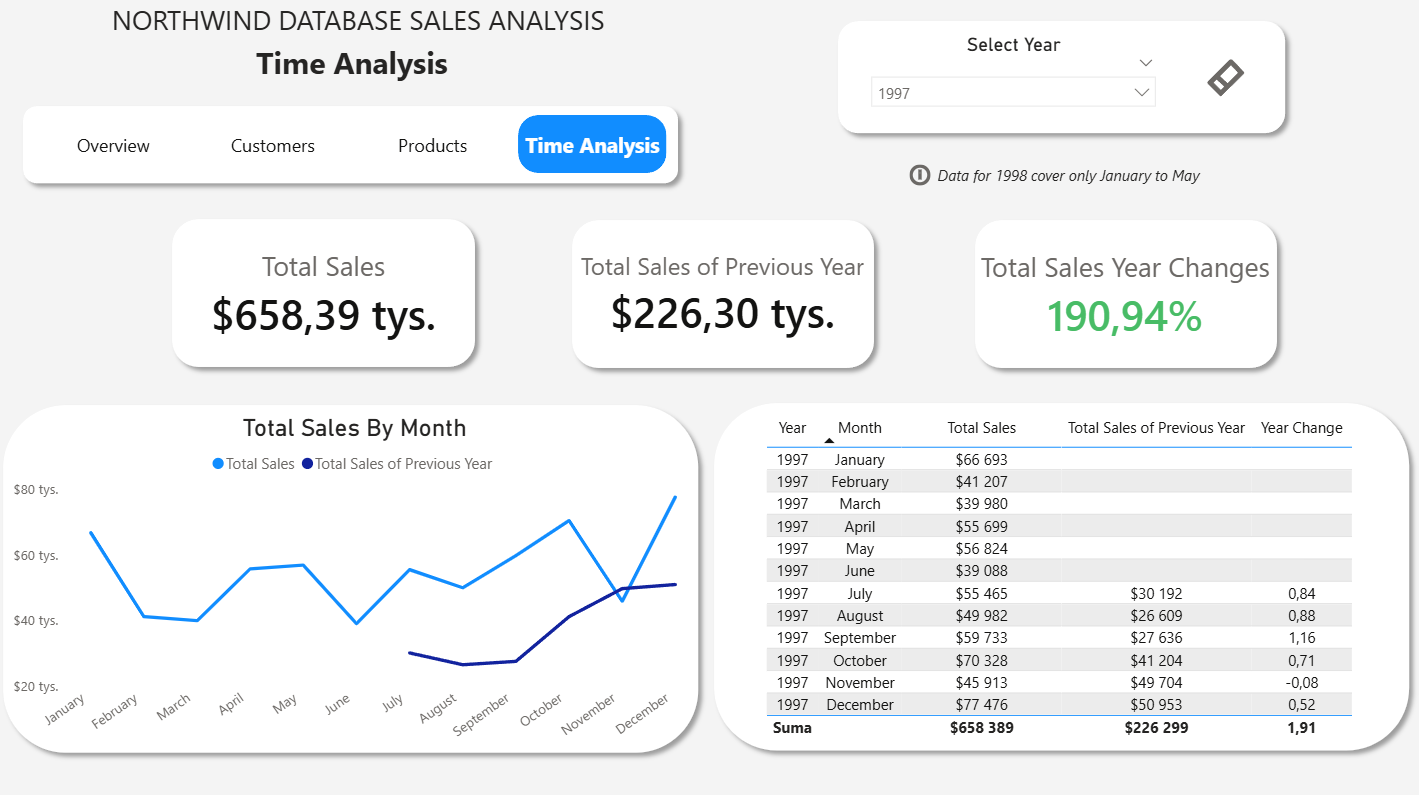

What the dashboard file says about the page in this screenshot:
{"tool":"powerbi","page":{"name":"Time Analysis","canvas":[1280,720],"ordinal":3},"visuals":[{"type":"shape","box":[636.6,356.6,640.5,329.1],"z":0},{"type":"textbox","box":[0,0,654.1,53],"z":1000},{"type":"textbox","box":[0,37,642.8,54.1],"z":2000},{"type":"shape","box":[151.3,191.5,289.3,150.4],"z":3000},{"type":"shape","box":[509.6,192.4,288.4,150.4],"z":4000},{"type":"cardVisual","fields":{"Data":["Measure.Total Sales of Previous Year"]},"box":[491.6,206.7,323.3,120],"z":5000},{"type":"cardVisual","fields":{"Data":["Measure.Total Sales"]},"box":[133.4,206.7,325.1,120],"z":6000},{"type":"shape","box":[747.7,14.7,418.4,118.4],"z":7000},{"type":"slicer","title":"Select Year","fields":{"Values":["date_dim.year"]},"box":[776.2,34,275.3,88.5],"z":8000},{"type":"actionButton","box":[1083.5,53.5,49.6,40.9],"z":9000},{"type":"shape","box":[870.4,192.4,288.4,150.4],"z":10000},{"type":"cardVisual","fields":{"Data":["Measure.YvY"]},"box":[852.5,207.6,323.3,120],"z":11000},{"type":"shape","box":[0,358.6,640.6,329.3],"z":12000},{"type":"lineChart","title":"Total Sales By Month","fields":{"Category":["date_dim.month_name"],"Y":["Measure.Total Sales","Measure.Total Sales of Previous Year"]},"box":[12.4,375.5,622.5,312.4],"z":13000},{"type":"tableEx","fields":{"Values":["date_dim.year","date_dim.month_name","Measure.Total Sales","Measure.Total Sales of Previous Year","Measure.YvY"]},"box":[686.9,372.5,540.9,300],"z":14000},{"type":"textbox","box":[840.9,147.7,249,32.2],"z":15000},{"type":"actionButton","box":[816.8,147.7,32.2,26.9],"z":16000},{"type":"shape","box":[18.2,90.1,604.6,87.2],"z":17000},{"type":"pageNavigator","box":[41.2,107.3,565.3,52.7],"z":18000}]}

Visuals, with their boxes in screenshot pixels (x1, y1, x2, y2), scaled from the page's 1280x720 canvas onto the 1419x795 screenshot:
shape: 706/394/1416/757
textbox: 0/0/725/59
textbox: 0/41/713/101
shape: 168/211/488/378
shape: 565/212/885/379
cardVisual - Measure.Total Sales of Previous Year: 545/228/903/361
cardVisual - Measure.Total Sales: 148/228/508/361
shape: 829/16/1293/147
"Select Year" slicer: 860/38/1166/135
actionButton: 1201/59/1256/104
shape: 965/212/1285/379
cardVisual - Measure.YvY: 945/229/1303/362
shape: 0/396/710/760
"Total Sales By Month" lineChart: 14/415/704/760
tableEx - date_dim.year x date_dim.month_name: 761/411/1361/743
textbox: 932/163/1208/199
actionButton: 905/163/941/193
shape: 20/99/690/196
pageNavigator: 46/118/672/177
